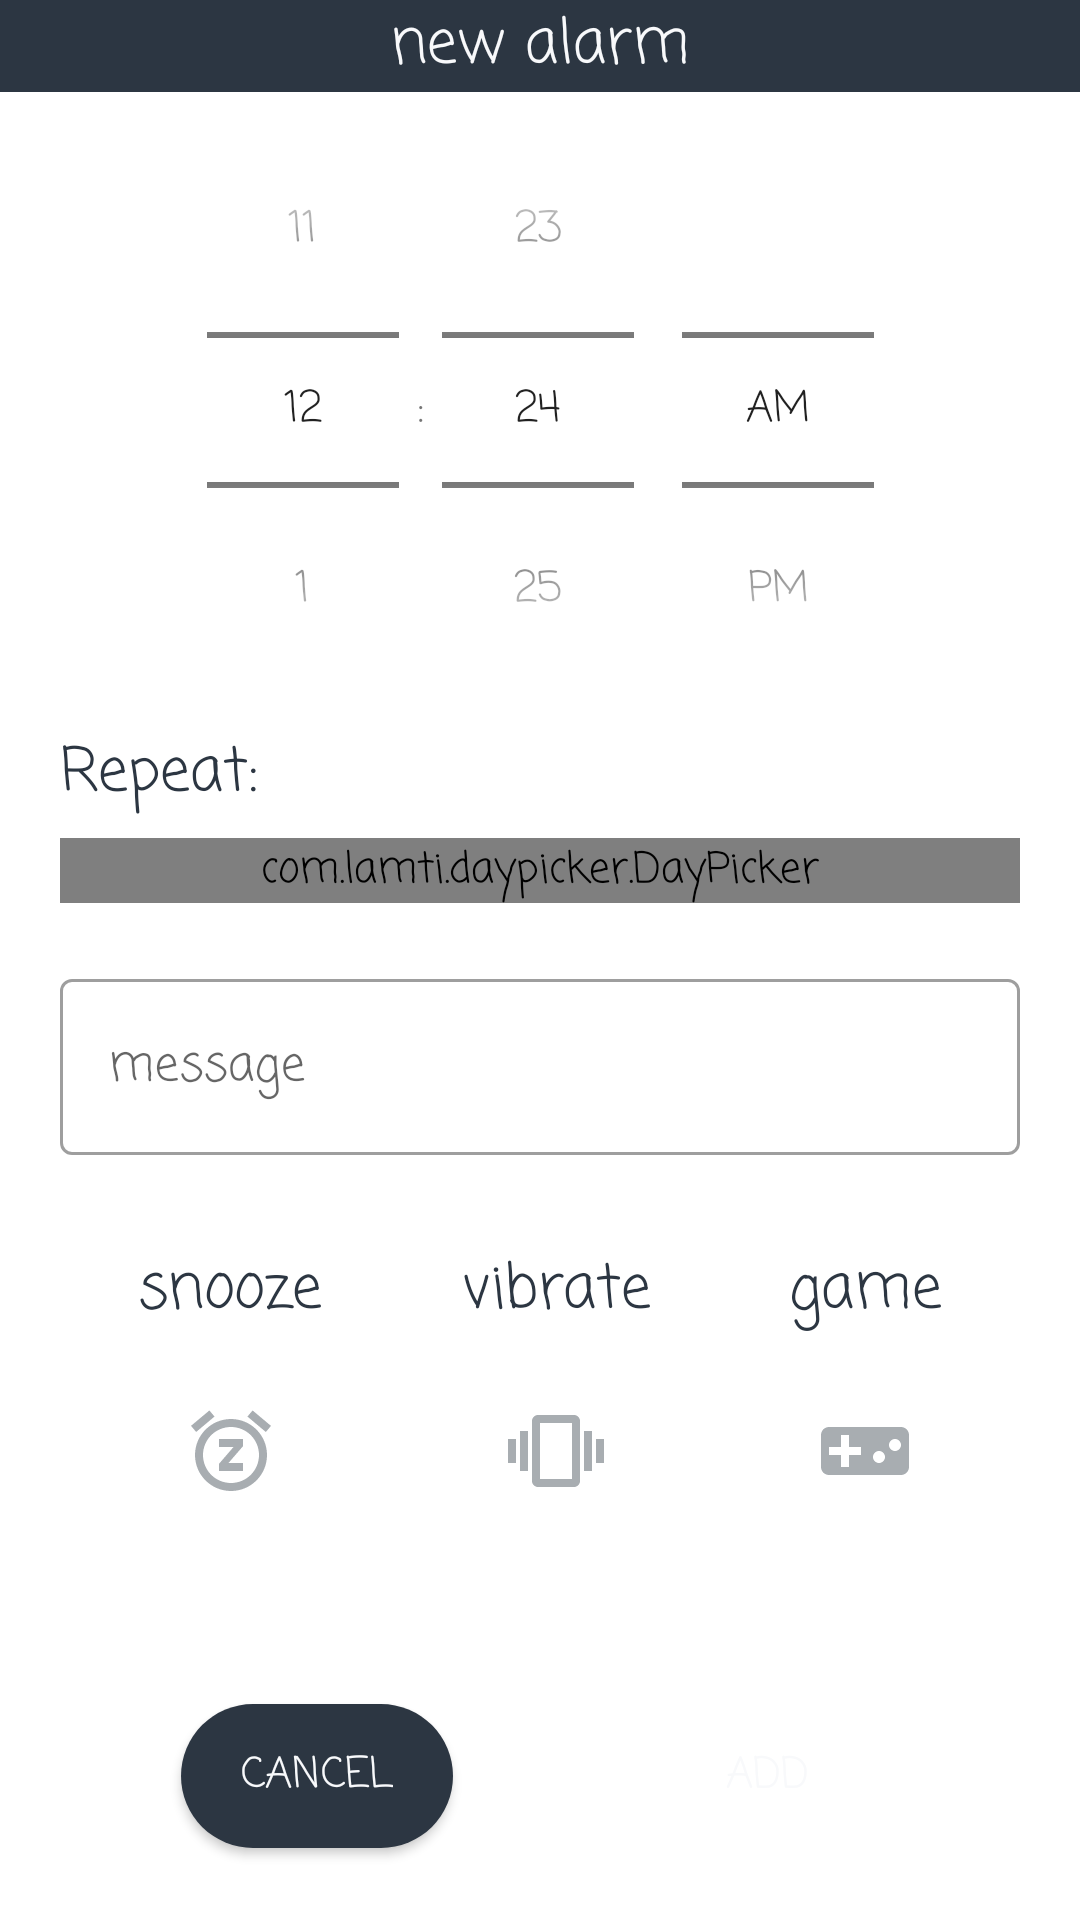

Icon bounding boxes for this 1080*1920 phone screenshot, format (x1=x1, y1=y1, x2=x2, y2=y2):
vibration: (x1=508, y1=1415, x2=604, y2=1487)
